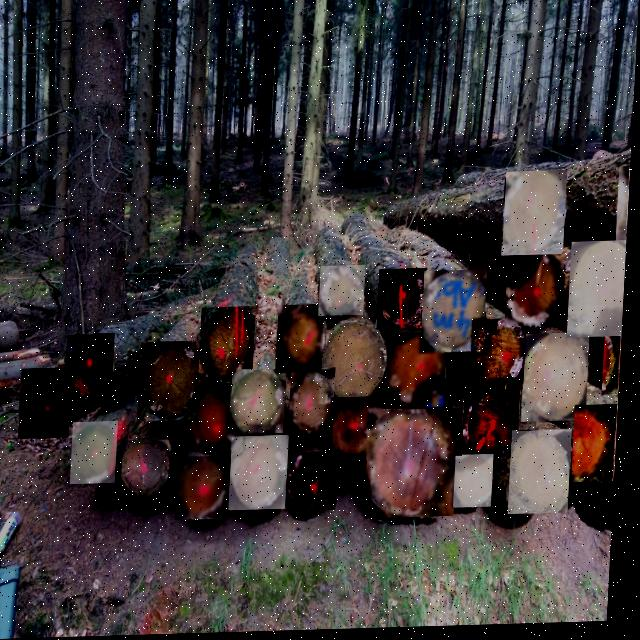wood-log: (372, 412, 462, 520), (528, 337, 593, 425), (572, 245, 629, 340), (326, 323, 392, 405), (506, 174, 567, 258), (515, 434, 575, 517), (426, 274, 489, 353), (143, 344, 206, 422), (392, 335, 449, 411), (236, 438, 293, 511), (510, 256, 567, 329), (204, 309, 258, 383), (475, 322, 530, 394), (468, 394, 523, 460), (24, 368, 74, 439), (235, 372, 290, 436), (281, 307, 331, 374), (335, 401, 386, 463), (578, 409, 619, 486), (182, 458, 233, 519), (71, 336, 117, 399), (294, 372, 339, 436), (293, 454, 342, 512), (381, 271, 428, 331), (76, 423, 122, 484), (127, 441, 177, 495), (196, 396, 240, 453), (323, 268, 368, 318), (460, 459, 498, 510), (608, 335, 622, 397), (618, 171, 630, 243)
